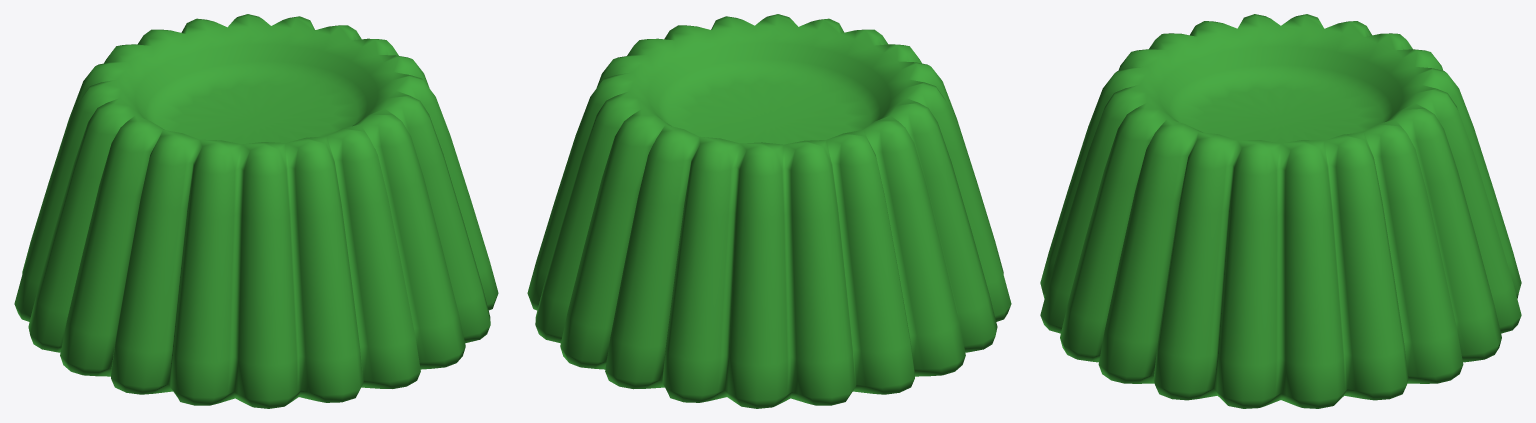
Rendered from Jelly01.fbx.
3 renders of one model, left to right at view 1: azimuth 30°, elevation 25°; view 2: azimuth 150°, elevation 25°; view 3: azimuth 270°, elevation 25°, orthographic.
Parts seen in each view (by area): view 1: Jelly01; view 2: Jelly01; view 3: Jelly01.
Boxes of the visible parts, left/top/right/bottom form: Jelly01: left=14, top=14, right=498, bottom=408; Jelly01: left=527, top=14, right=1011, bottom=408; Jelly01: left=1040, top=14, right=1521, bottom=408.
Size of the model in its own units: 622 by 337 by 622.
